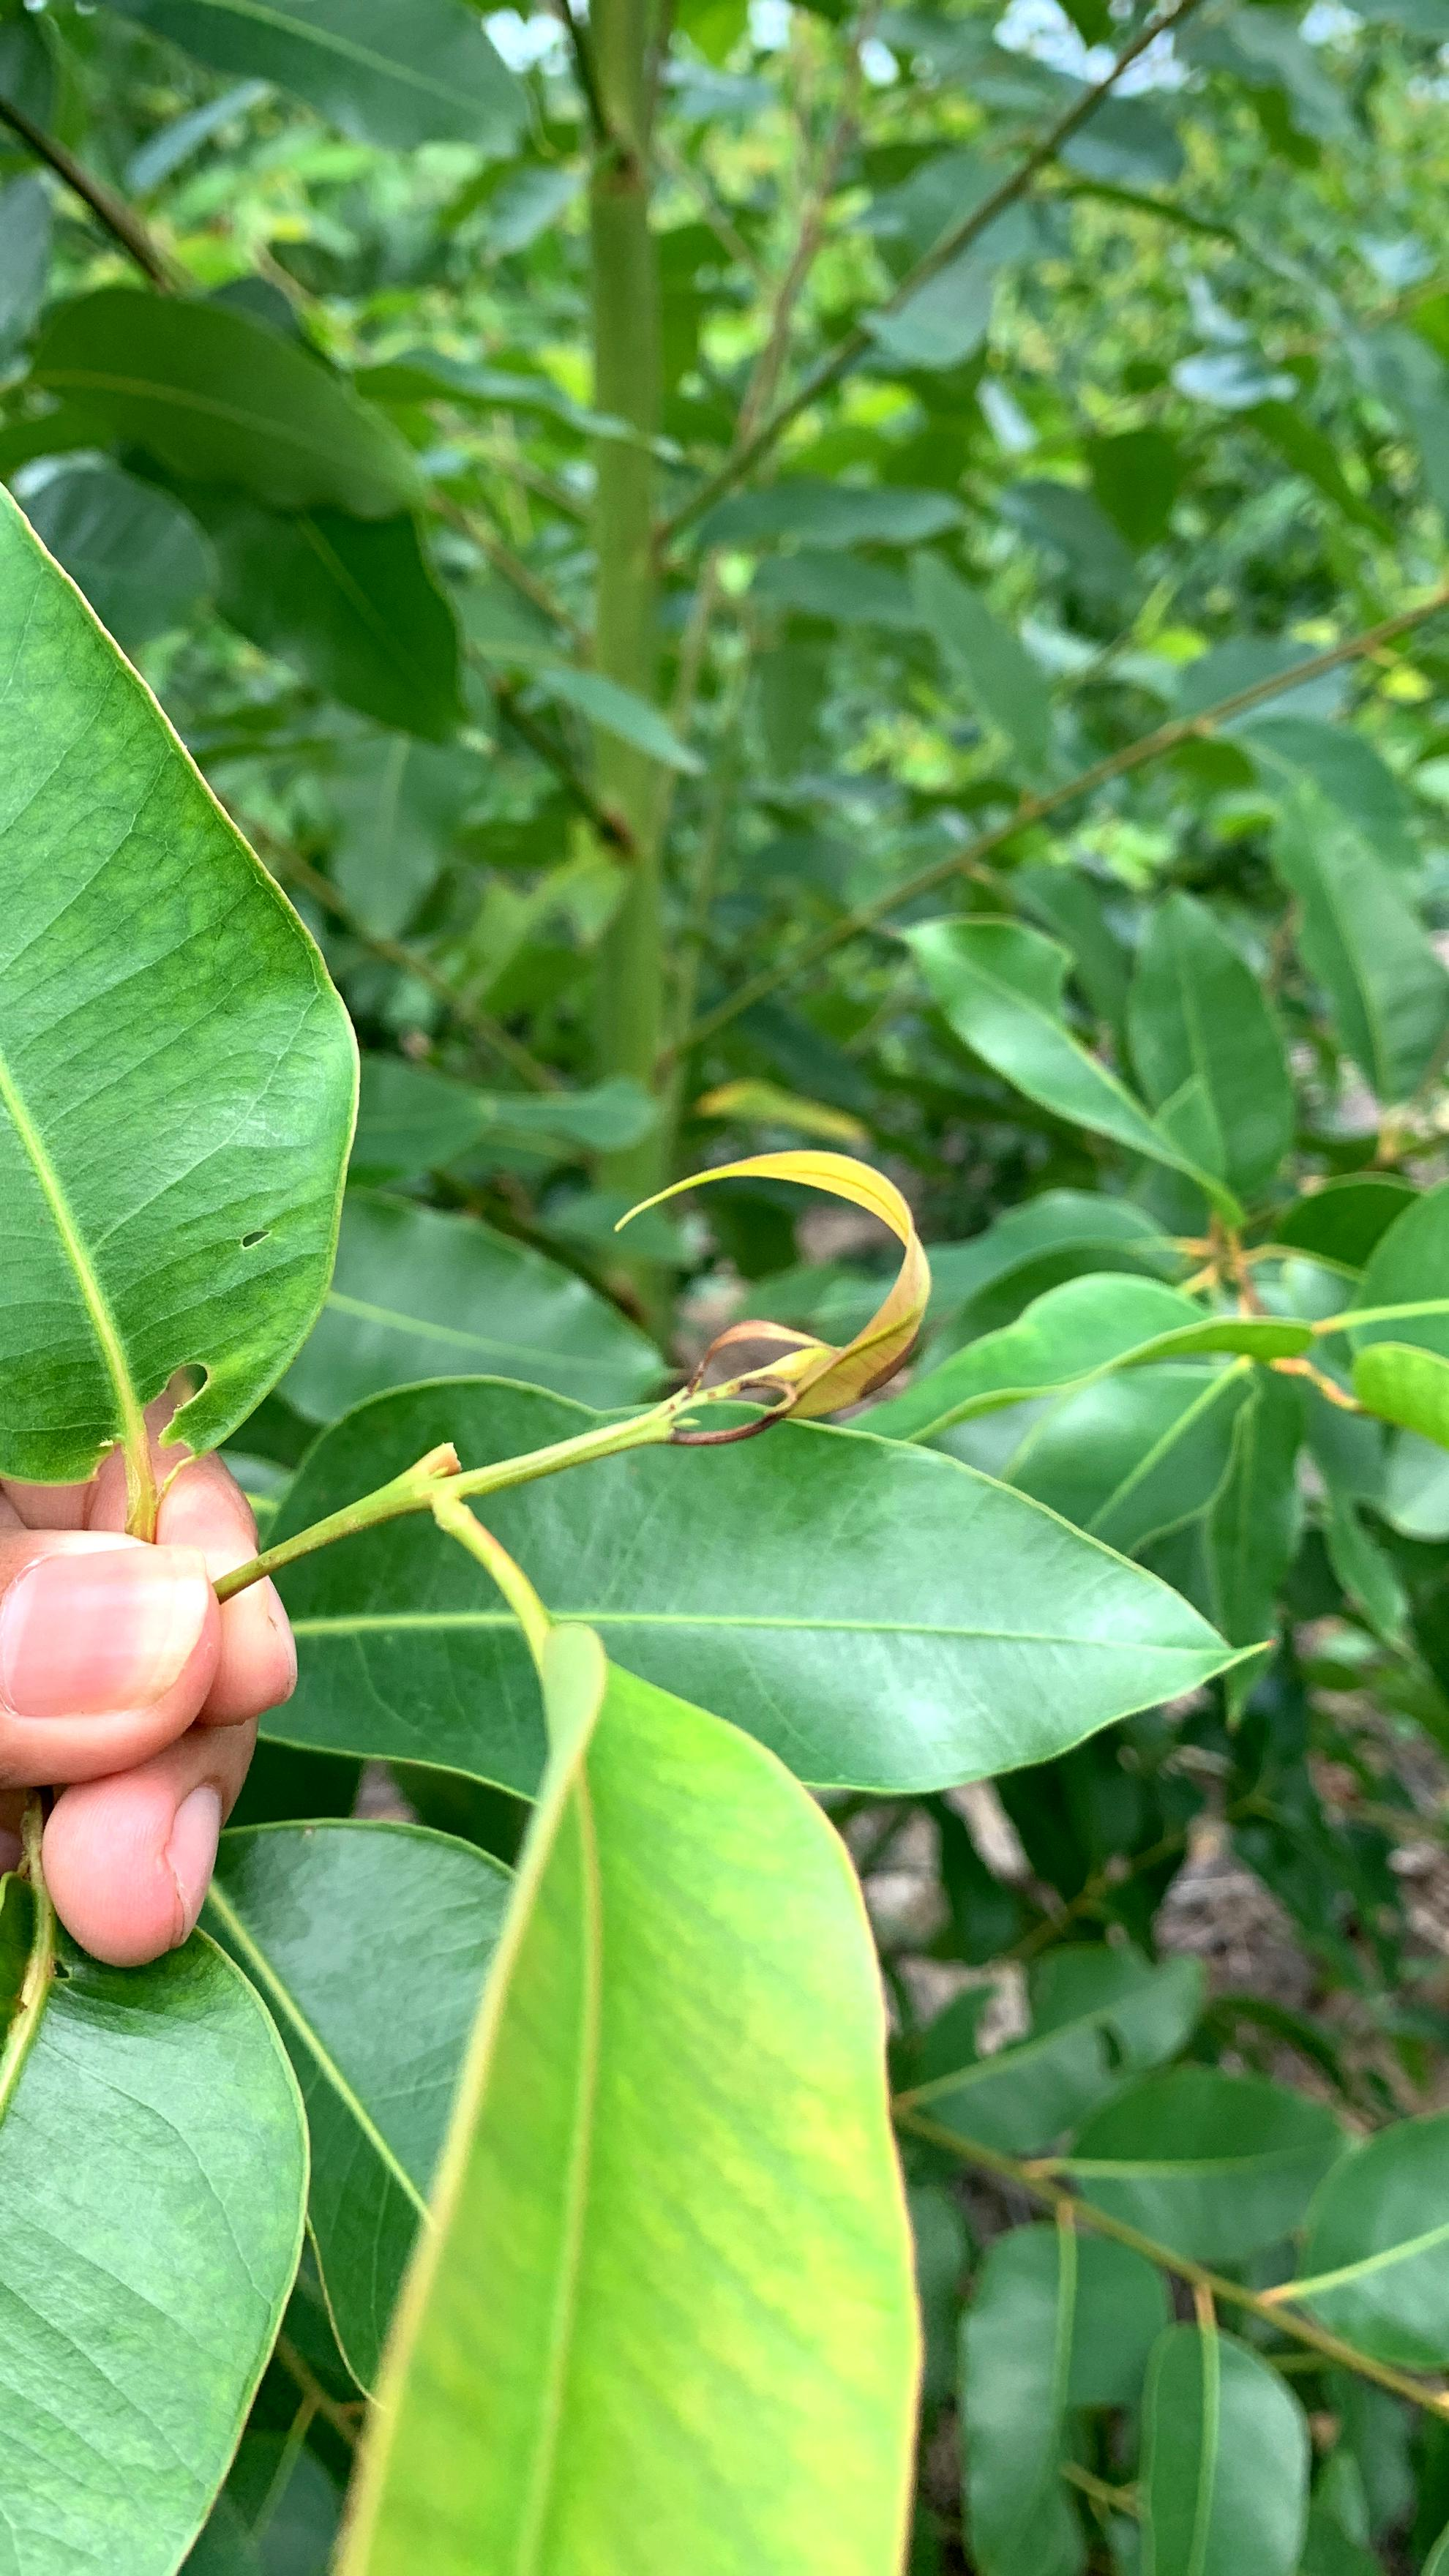Helopeltis-Withered Sprout: (617, 1115, 989, 1500)
